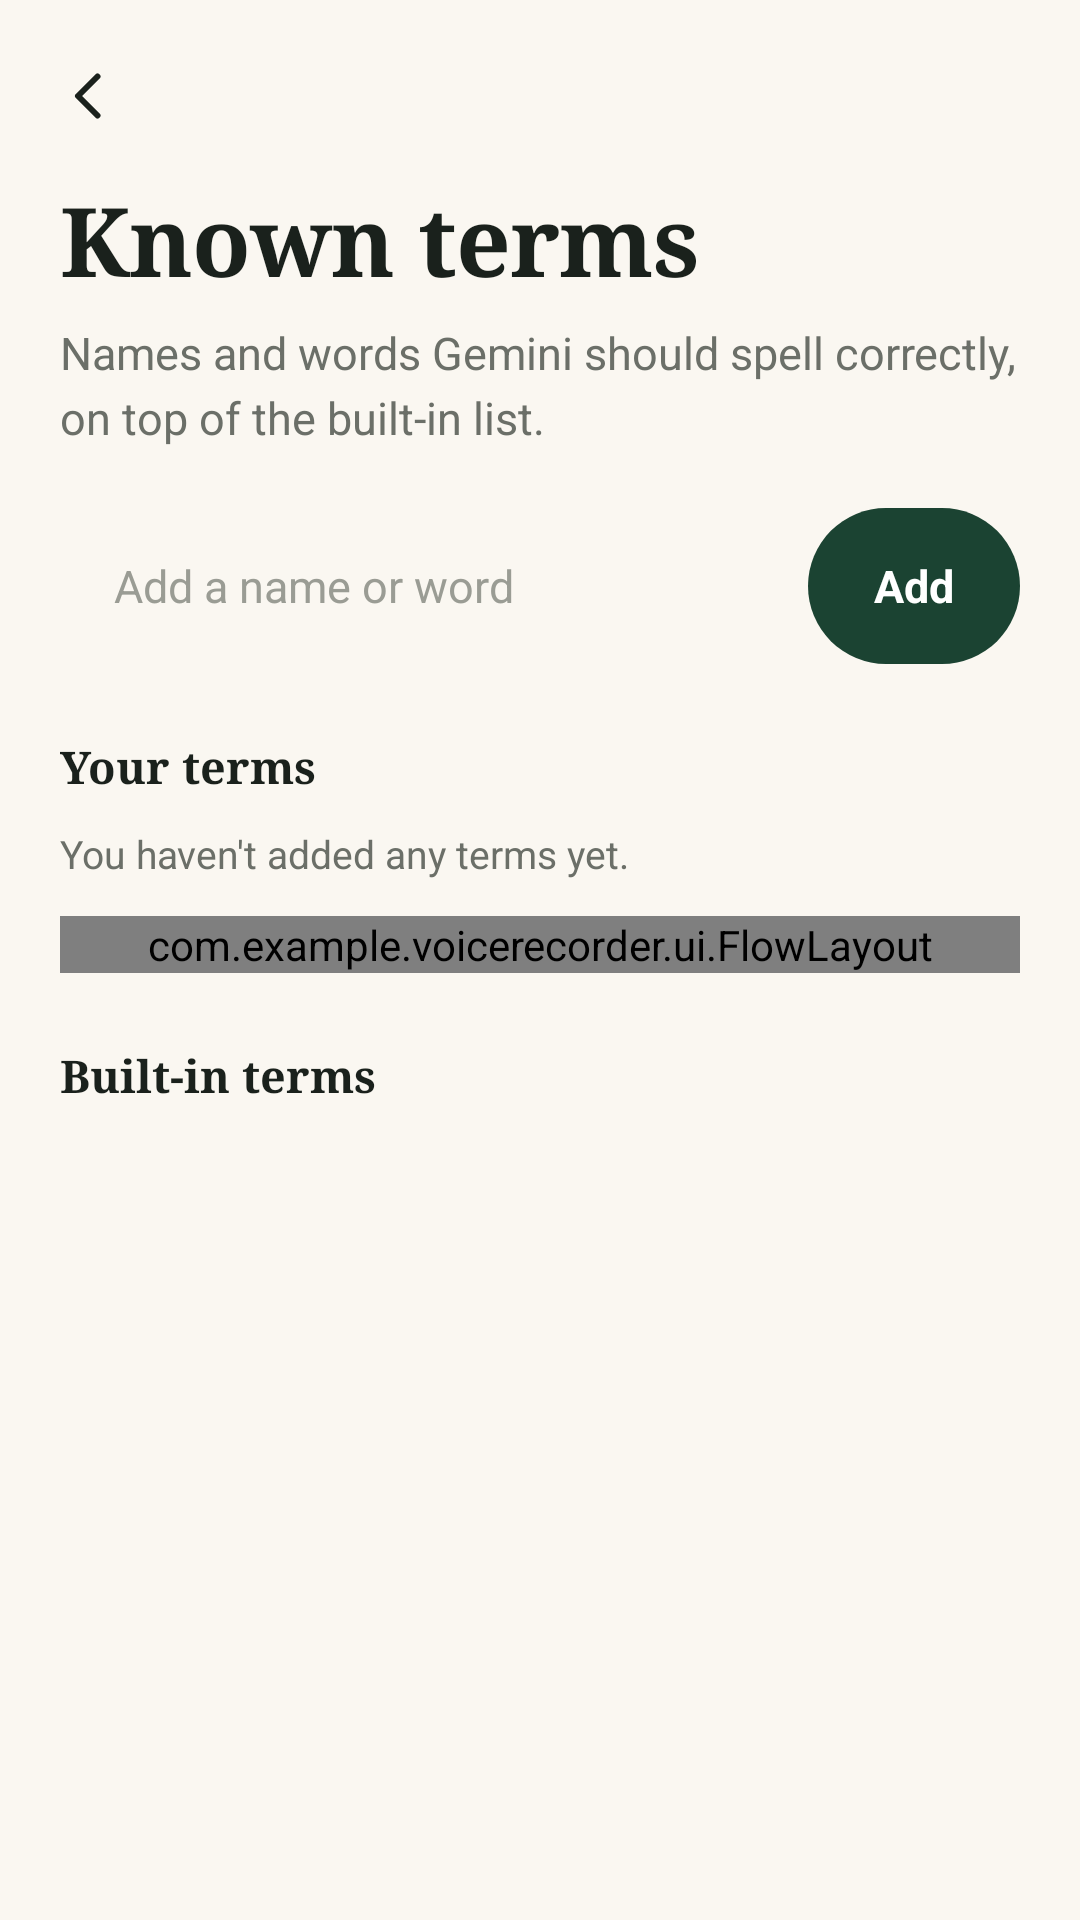

Icon click points for this 1080w x 1920h phone screenshot, format (x,y):
Back: (88,96)
